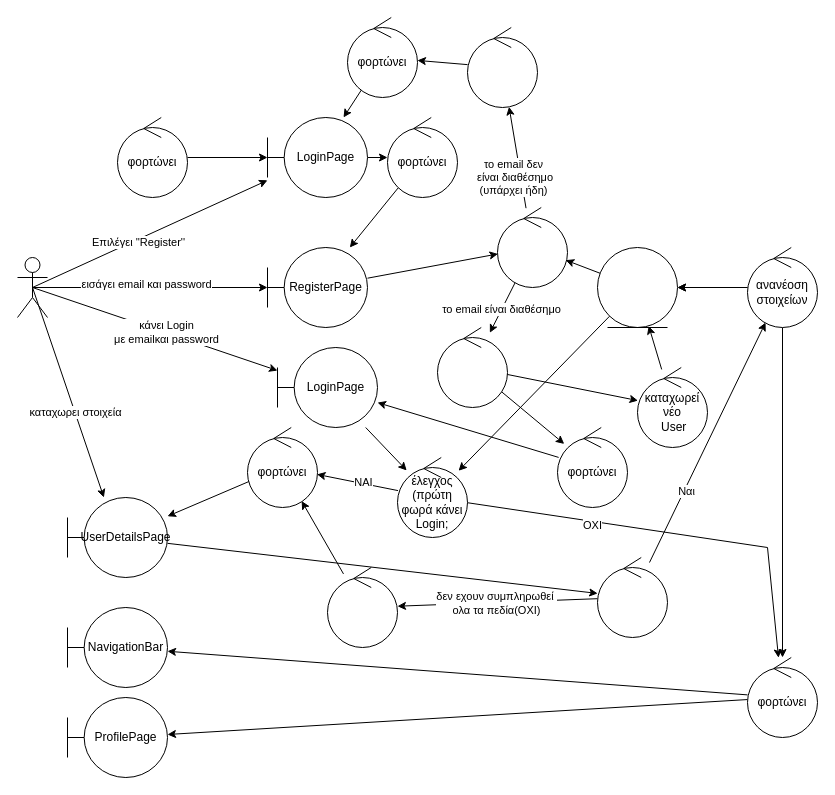
Some shapes in this 835 by 795 pixel diagram are drawn without their labels. Each missing label, with the centre of its shape:
"User" goes at pixel 32 287.
"User:" goes at pixel 637 287.
"έλεγχος email" goes at pixel 532 247.
"έλεγχος πληρότητας υποχρεωτικών πεδίων" goes at pixel 632 597.
"εμφανίζει ''Συμπλήρωσε όλα τα στοιχεία''" goes at pixel 362 607.
"εμφανίζει : ''registration complete''" goes at pixel 472 367.
"εμφανίζει¨ ''Error during Registration" goes at pixel 502 67.
